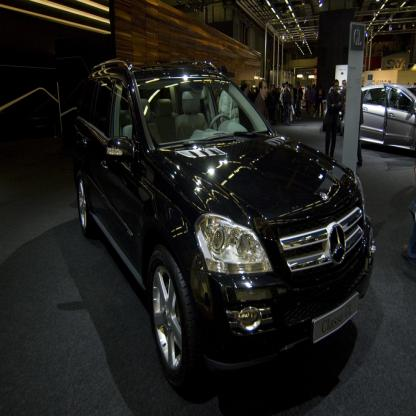Car: (74, 60, 377, 386), (341, 85, 416, 152)
